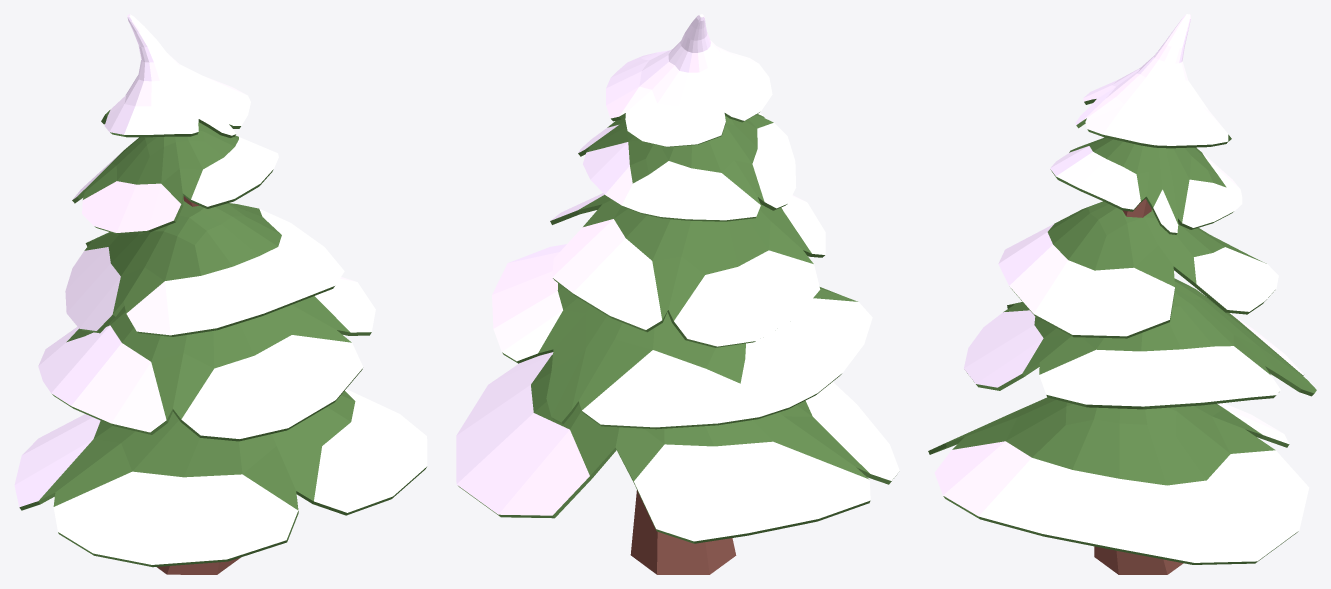
File: PineTree_Snow_1.glb
3 renders of one model, left to right at view 1: azimuth 30°, elevation 25°; view 2: azimuth 150°, elevation 25°; view 3: azimuth 270°, elevation 25°, orthographic. The views are drawn at different scales.
Parts seen in each view (by area): view 1: PineTree_Snow_1; view 2: PineTree_Snow_1; view 3: PineTree_Snow_1.
Boxes of the visible parts, left/top/right/bottom form: PineTree_Snow_1: left=14, top=14, right=427, bottom=574; PineTree_Snow_1: left=456, top=14, right=899, bottom=574; PineTree_Snow_1: left=928, top=14, right=1316, bottom=574.
Bounding box in the file's own units: 196 × 270 × 182.
